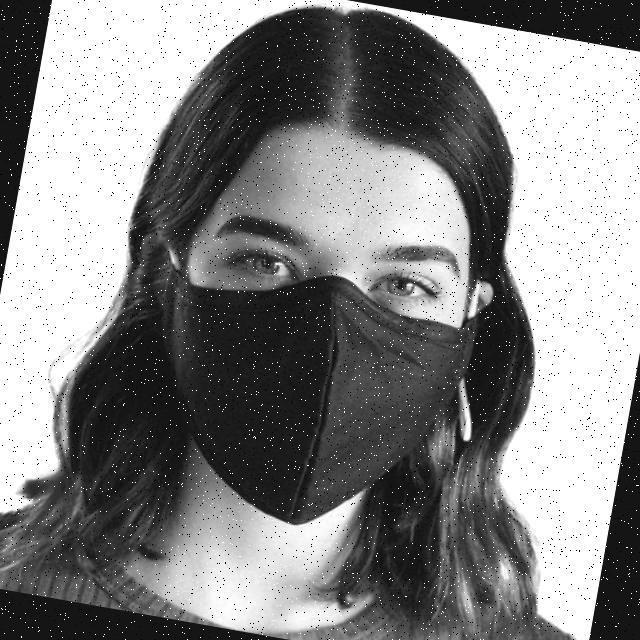mask: (150, 276, 498, 530)
no_gloves: (144, 0, 515, 273)
